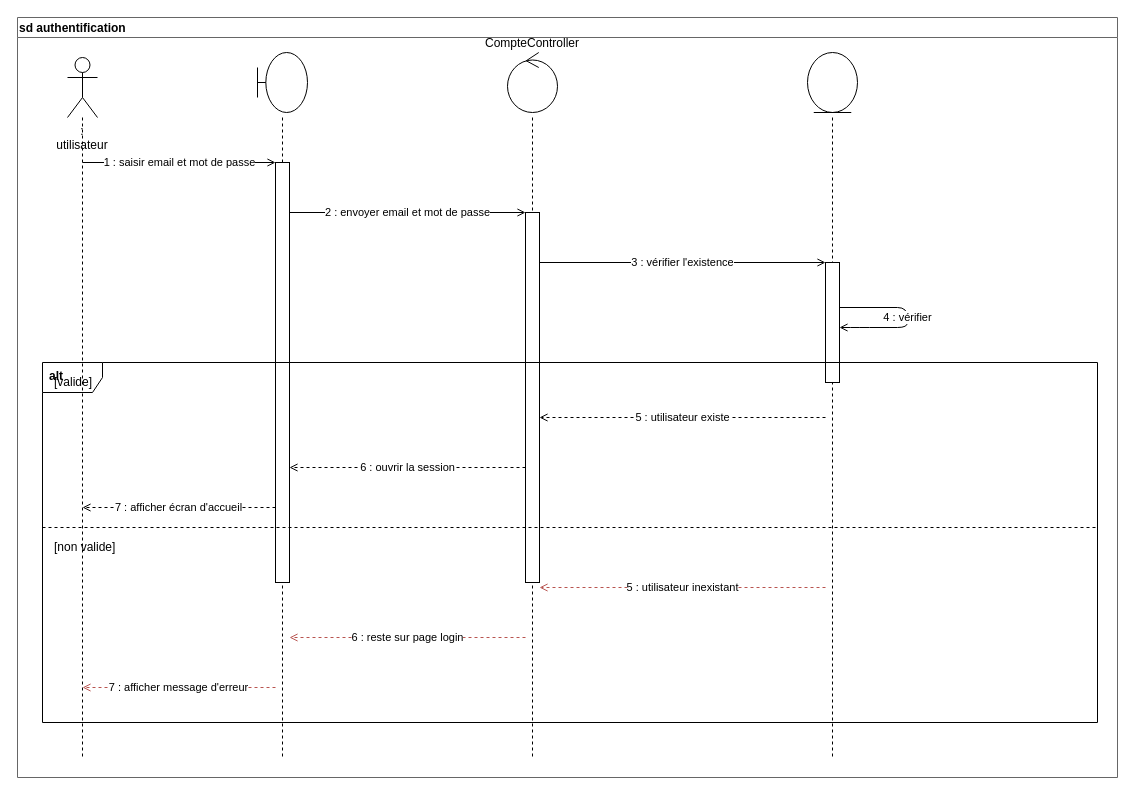
The diagram is 1135 pixels wide and 795 high, and some of its shapes have lost their labels. The centre of each missing label's shape, as x and y in pixels:
login: (282,82)
Utilisateur: (832,82)
